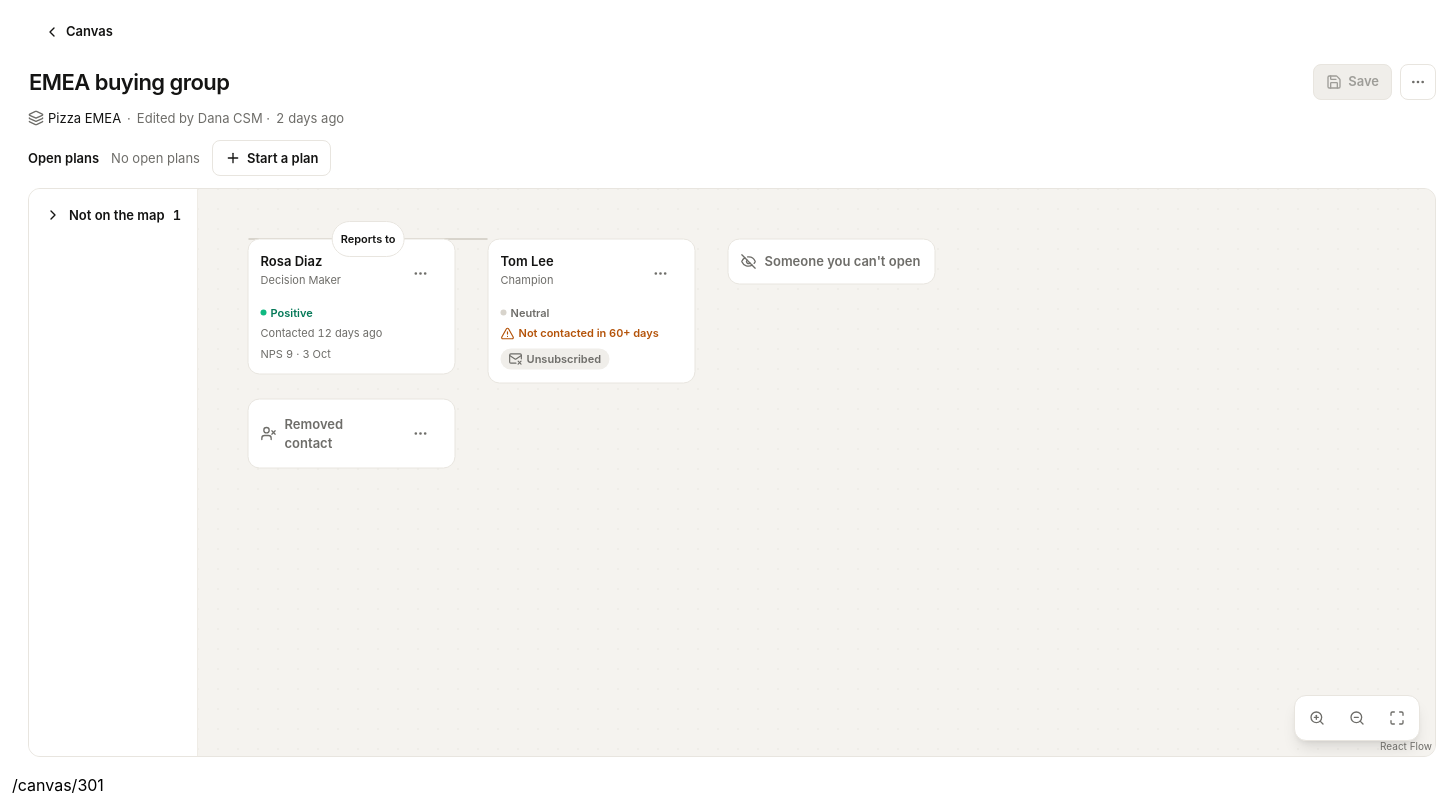
Test: MapEditor board: lines, menus and focus (canvas visuals) › stacks line labels above every card, a selected one included, and their menu outside the board
The width and height of the screenshot is (1452, 810).
Expected: the text "Rosa Diaz" is shown, [260,252,322,268]
Click the element that starts with "Tom Lee" at (592, 311), box [488,238,696,383]
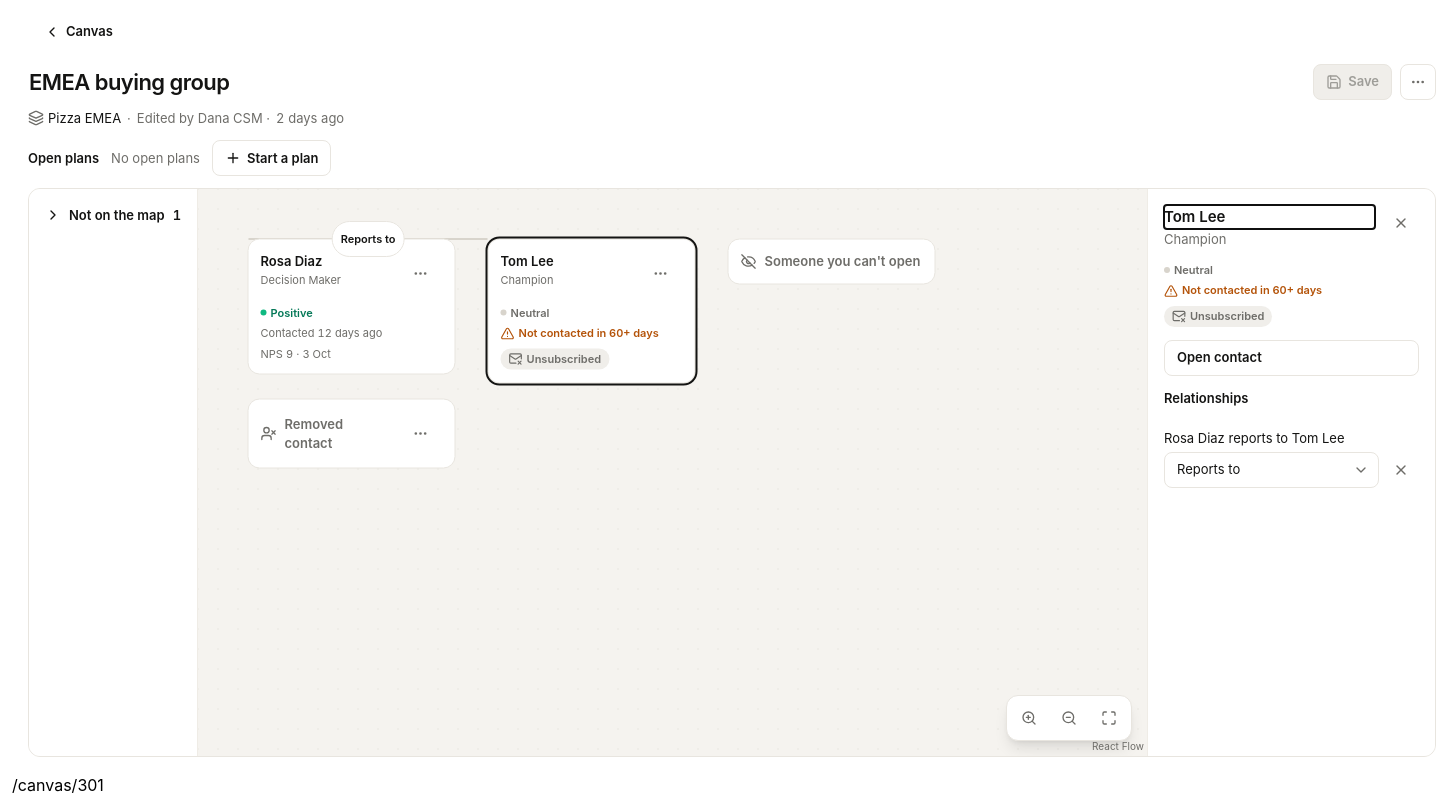
Click the button with aria-label "Relationship: Reports to." at (368, 239), box [332,221,404,257]
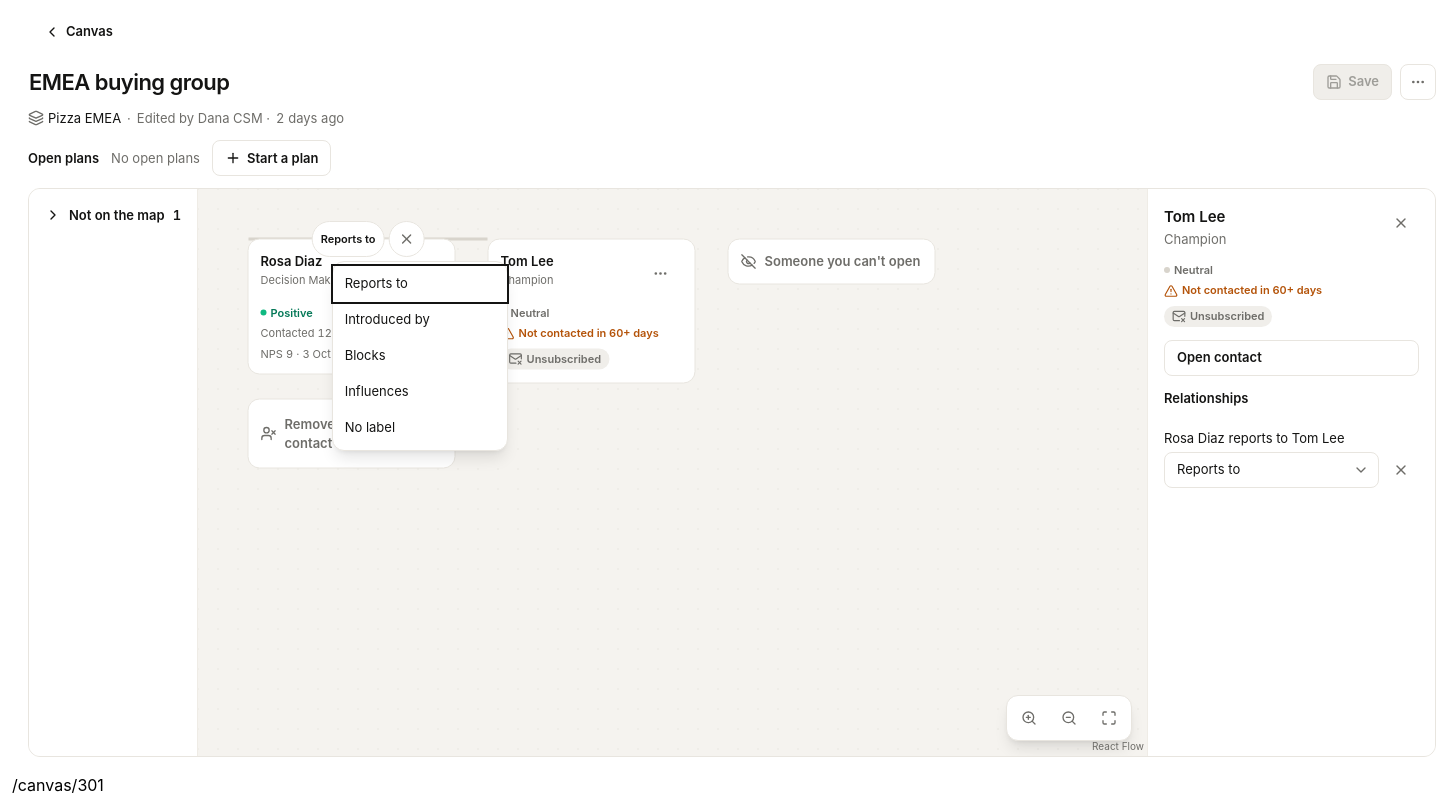
Escape closes the menu and stays there: the line is not selected by it.
Press Escape
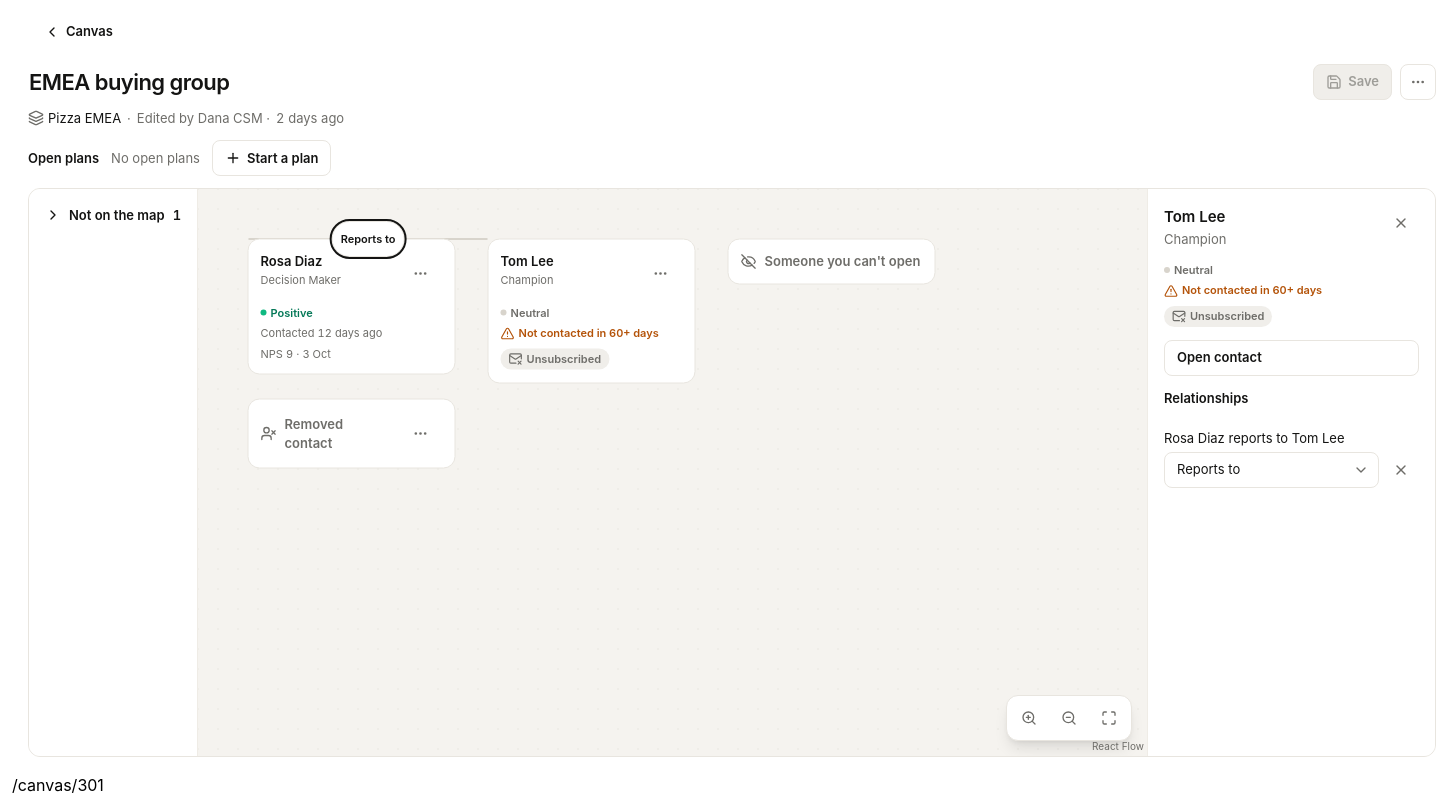
Result: the menu is gone
